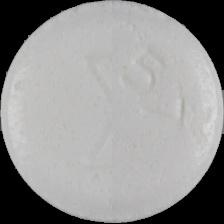0615-5538: (0, 0, 224, 224)
